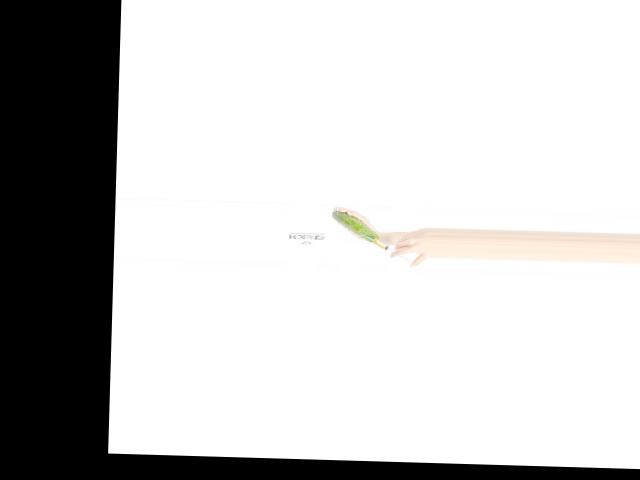cucumber: (332, 210, 379, 243)
